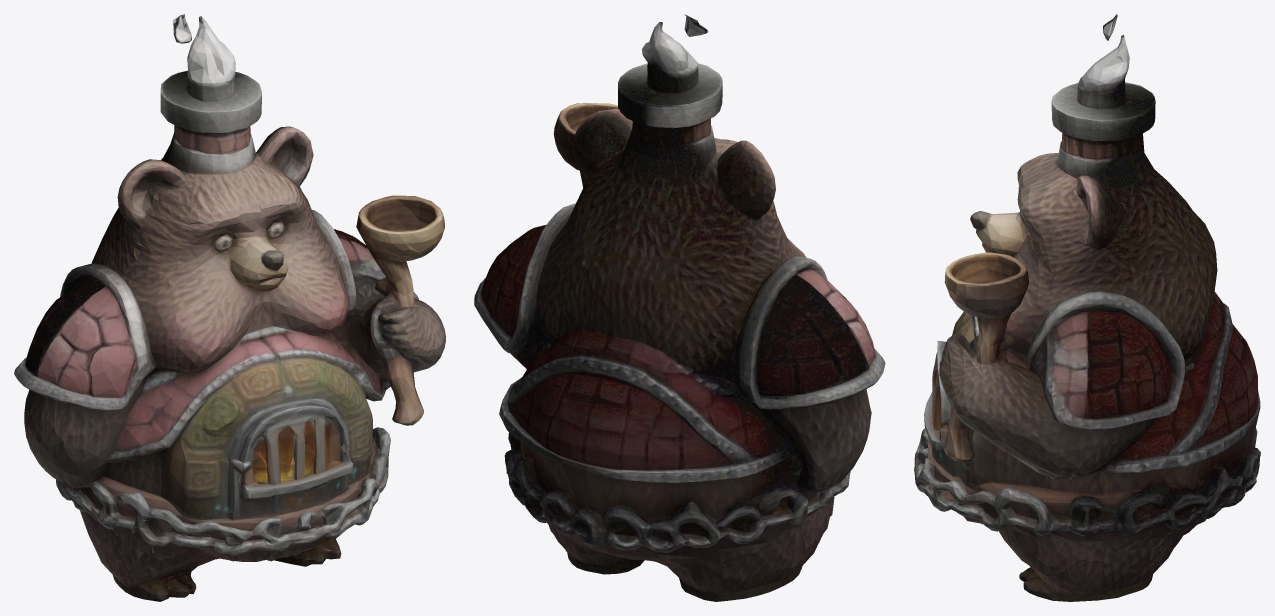
The model's file is hearthkin__stoutHearth.glb.
3 renders of one model, left to right at view 1: azimuth 30°, elevation 25°; view 2: azimuth 150°, elevation 25°; view 3: azimuth 270°, elevation 25°, orthographic. The views are drawn at different scales.
Visible parts, largest first — view 1: world; view 2: world; view 3: world.
Boxes of the visible parts, x1,y1,x2,y2 form: world: (14,14,445,601); world: (474,14,885,601); world: (914,14,1260,601).
Size of the model in its own units: 0.7395 by 0.9995 by 0.5951.
1 material, 1 textured.
